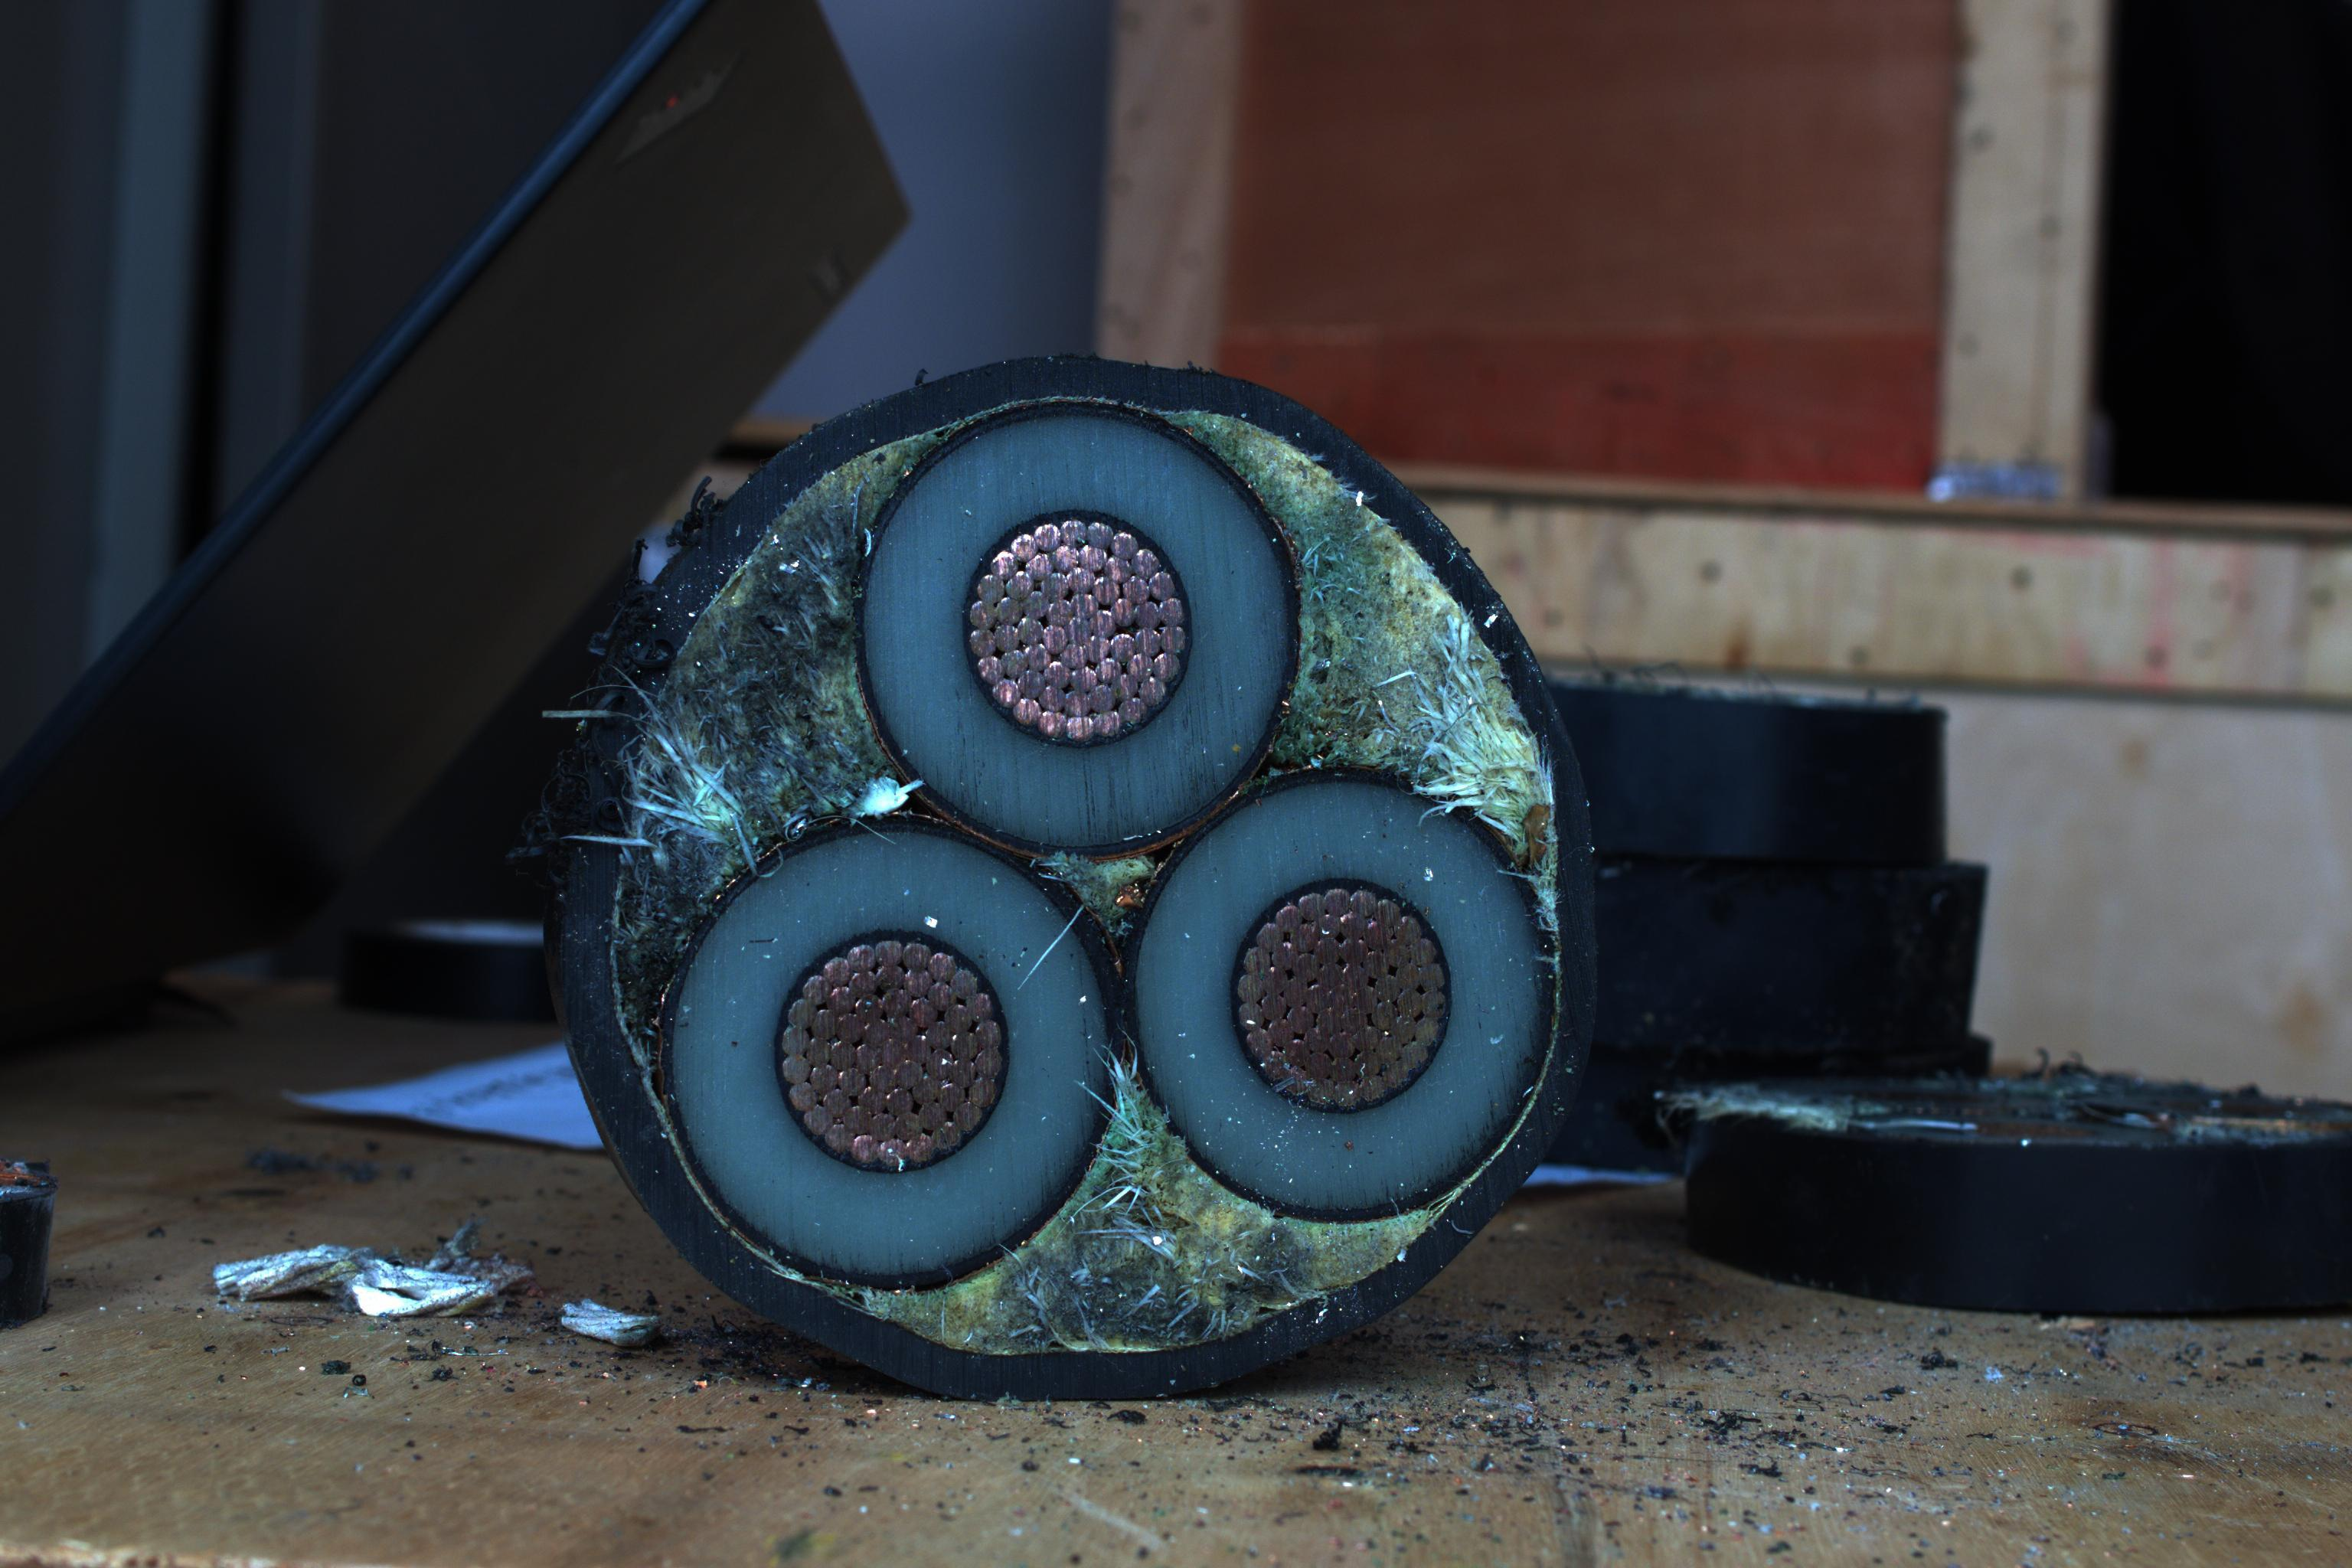ZA_YJV_26_35kV_3x400: (493, 345, 1601, 1389)
